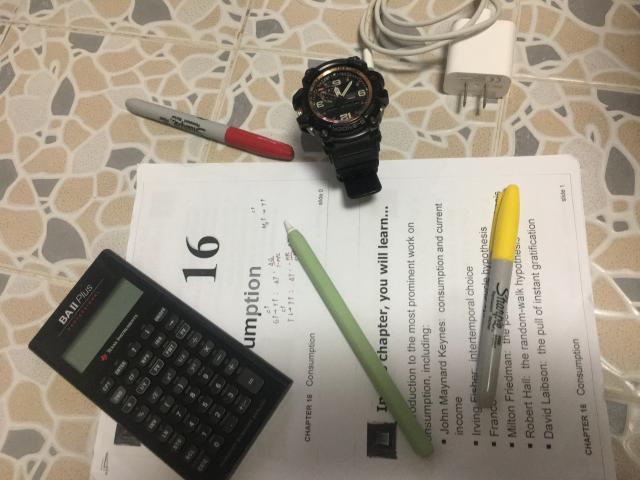Pen: (125, 99, 294, 160), (476, 185, 520, 409)
Watch: (292, 56, 389, 199)
paper: (87, 155, 615, 480)
wire: (359, 0, 515, 108)
